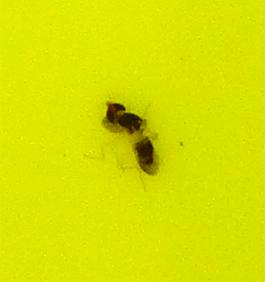Brachycera: (100, 100, 165, 182)
